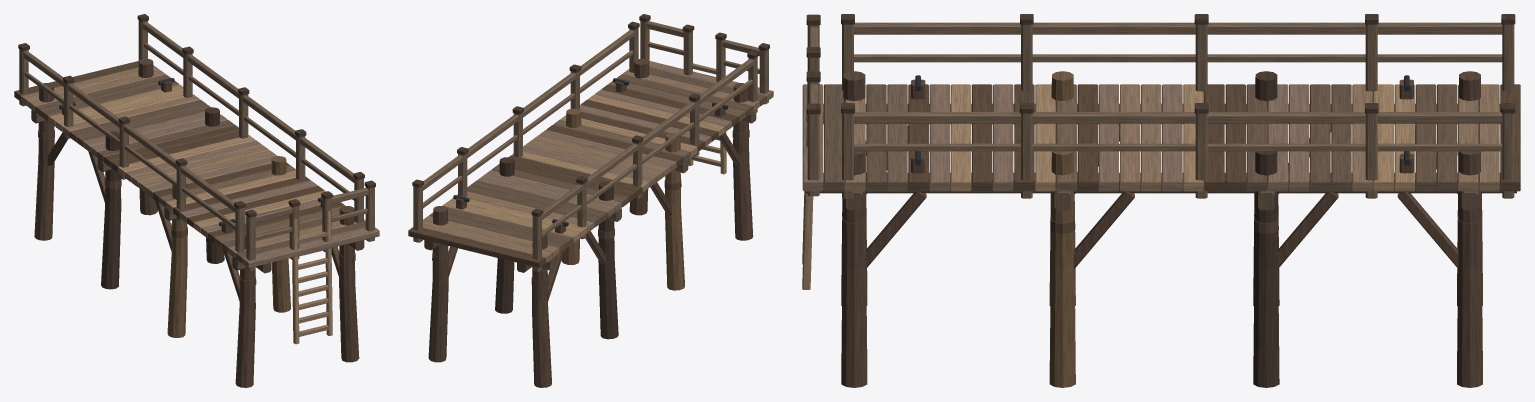
Rendered from dock.glb.
3 renders of one model, left to right at view 1: azimuth 30°, elevation 25°; view 2: azimuth 150°, elevation 25°; view 3: azimuth 270°, elevation 25°, orthographic. The views are drawn at different scales.
Parts seen in each view (by area): view 1: Driven timber piles, diagonal braces, rails and ladder, Salt-weathered pier boards and pegged cantilevers; view 2: Driven timber piles, diagonal braces, rails and ladder, Salt-weathered pier boards and pegged cantilevers; view 3: Driven timber piles, diagonal braces, rails and ladder, Salt-weathered pier boards and pegged cantilevers.
Part boxes in pixels (bbox=[...]): Driven timber piles, diagonal braces, rails and ladder: bbox=[18, 14, 375, 387]; Salt-weathered pier boards and pegged cantilevers: bbox=[14, 61, 379, 273]; Driven timber piles, diagonal braces, rails and ladder: bbox=[412, 14, 769, 387]; Salt-weathered pier boards and pegged cantilevers: bbox=[408, 61, 773, 272]; Driven timber piles, diagonal braces, rails and ladder: bbox=[802, 14, 1515, 387]; Salt-weathered pier boards and pegged cantilevers: bbox=[802, 79, 1520, 210].
Size of the model in its own units: 2.9 by 3.9 by 9.
Materials: 2 (1 with a texture image).
